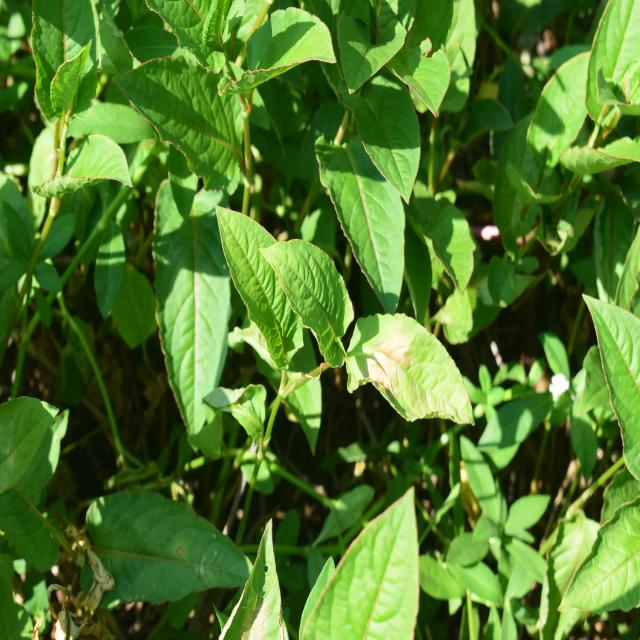Chinese_knotweed: (218, 188, 468, 448)
